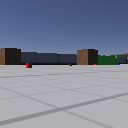blue_cube: (118, 63, 120, 65)
green_basket: (98, 54, 118, 66)
obstacle: (77, 48, 99, 65), (1, 47, 21, 65)
red_cube: (25, 63, 32, 68), (93, 63, 97, 66), (69, 63, 72, 66), (116, 63, 118, 65)
